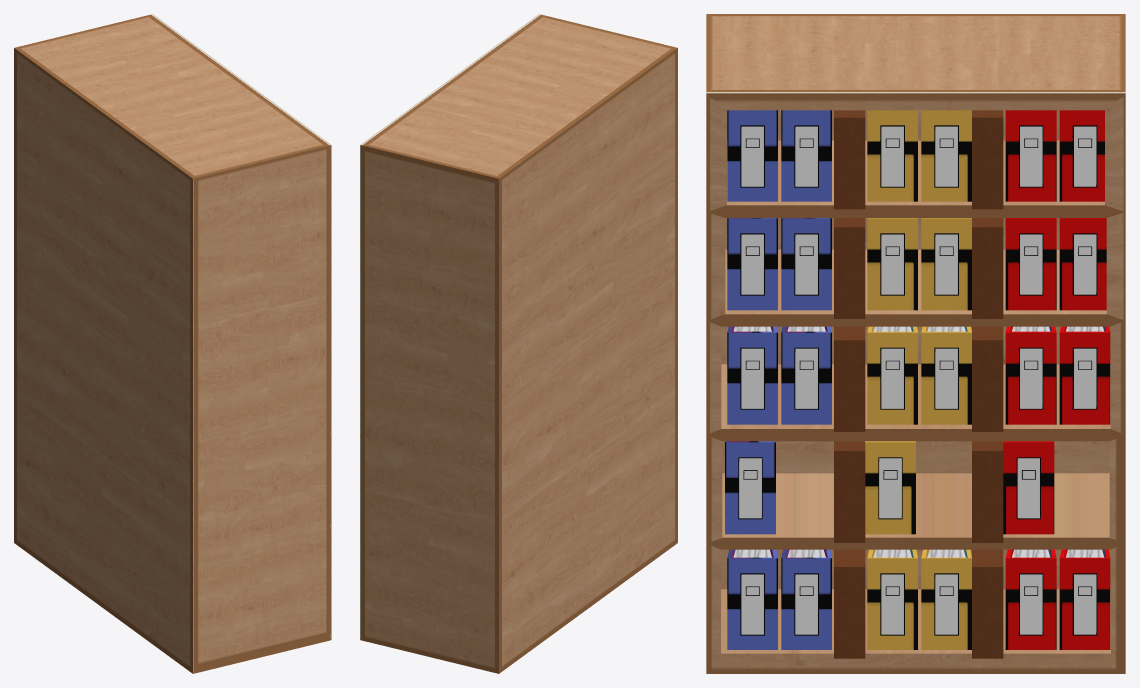
Rendered from Bookshelf_PartialFilled_Folders_RBY.fbx.
3 views of the same model, side by side, from view 1: azimuth 30°, elevation 25°; view 2: azimuth 150°, elevation 25°; view 3: azimuth 270°, elevation 25° (orthographic). The views are drawn at different scales.
Parts seen in each view (by area): view 1: Bookshelf_Folders_RBY; view 2: Bookshelf_Folders_RBY; view 3: Bookshelf_Folders_RBY.
Part boxes in pixels (<box>): Bookshelf_Folders_RBY: <box>14,14,331,673</box>; Bookshelf_Folders_RBY: <box>360,14,677,673</box>; Bookshelf_Folders_RBY: <box>706,14,1125,673</box>.
Size of the model in its own units: 59.92 by 194 by 127.
